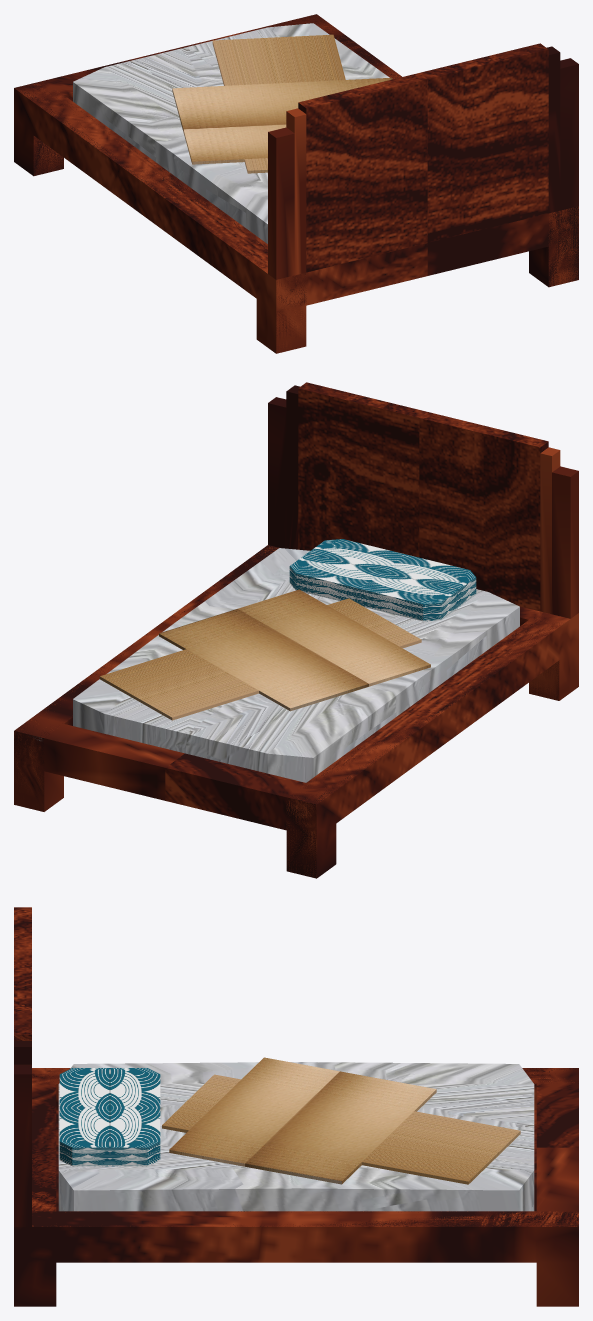
The model's file is bed2.fbx.
The picture shows the model from 3 angles, top to bottom: view 1: azimuth 30°, elevation 25°; view 2: azimuth 150°, elevation 25°; view 3: azimuth 270°, elevation 25°; orthographic projection. The views are drawn at different scales.
Visible parts, largest first — view 1: bed collider; view 2: bed collider; view 3: bed collider.
Part boxes in pixels (left/top/right/bottom): bed collider: left=14, top=14, right=578, bottom=353; bed collider: left=14, top=382, right=578, bottom=878; bed collider: left=14, top=907, right=578, bottom=1306.
Size of the model in its own units: 400 by 300 by 600.
